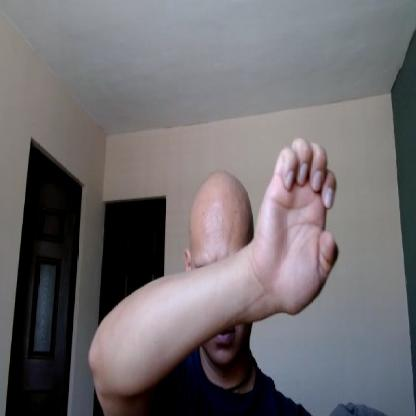E: (254, 135, 340, 318)
